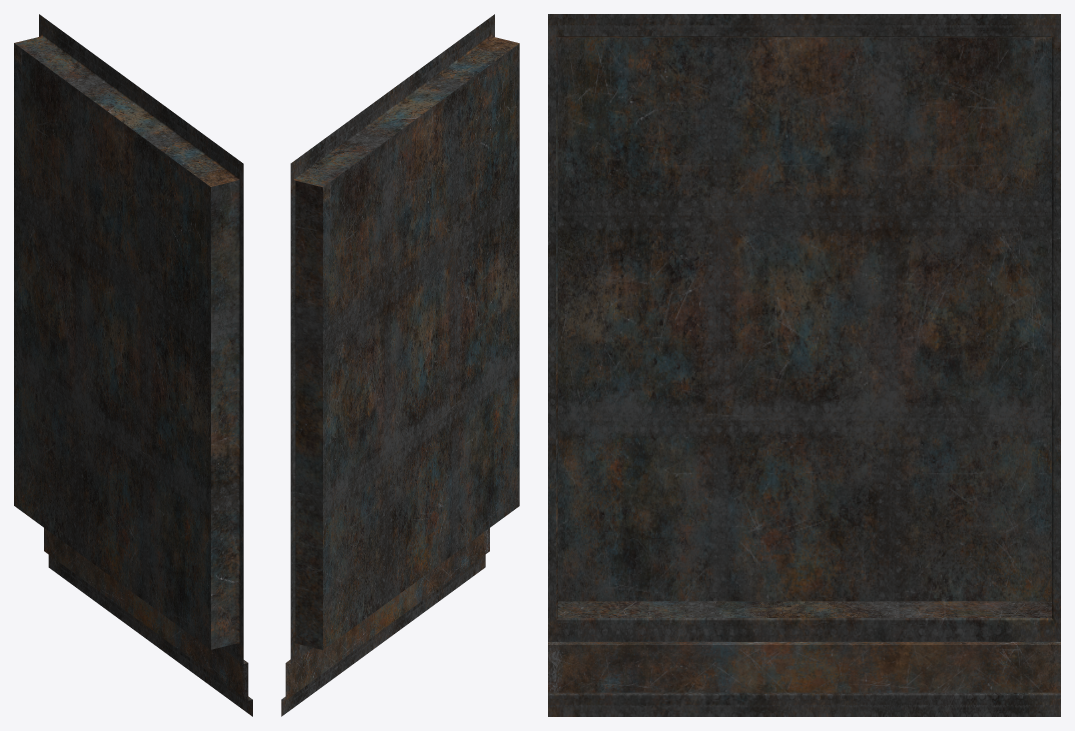
Rendered from Basement_Corridor_C_Wall_2m_Shaft.glb.
The picture shows the model from 3 angles, left to right: view 1: azimuth 30°, elevation 25°; view 2: azimuth 150°, elevation 25°; view 3: azimuth 270°, elevation 25°; orthographic projection. The views are drawn at different scales.
Visible parts, largest first — view 1: Basement_Corridor_C_Wall_2m_Shaft; view 2: Basement_Corridor_C_Wall_2m_Shaft; view 3: Basement_Corridor_C_Wall_2m_Shaft.
Part boxes in pixels (box(x1,y1,x2,y2)): Basement_Corridor_C_Wall_2m_Shaft: box(14, 14, 252, 716); Basement_Corridor_C_Wall_2m_Shaft: box(281, 14, 519, 716); Basement_Corridor_C_Wall_2m_Shaft: box(548, 14, 1060, 716).
Size of the model in its own units: 0.2152 by 3 by 2.
2 materials, 2 textured.
